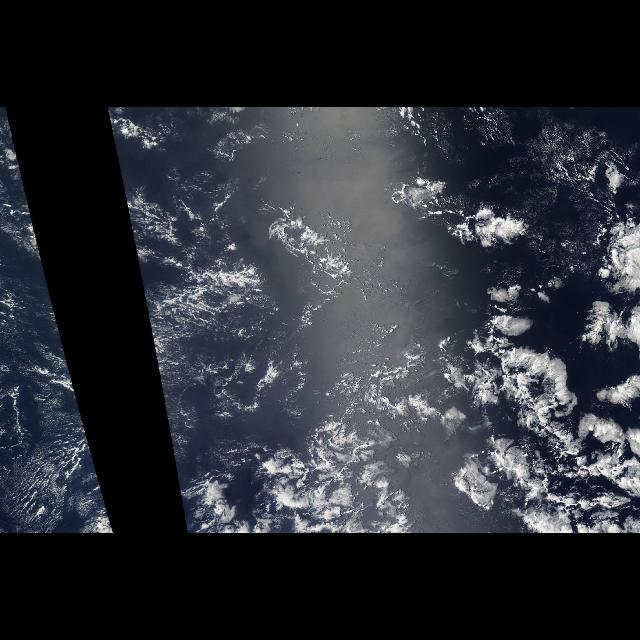Fish: (454, 311, 608, 497)
Flower: (454, 208, 640, 534)
Gravel: (177, 171, 401, 524)
Sugar: (122, 188, 288, 462), (430, 121, 596, 193)
